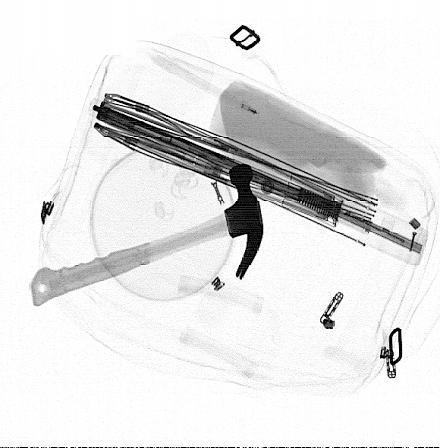Hammer: (30, 163, 264, 307)
